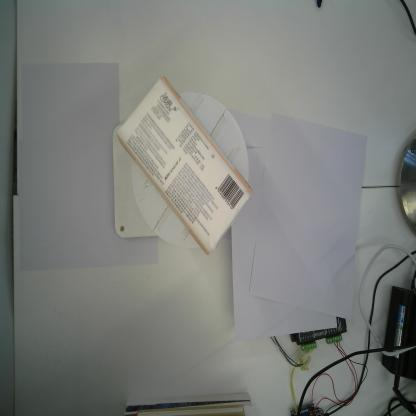Tissue: (115, 74, 254, 256)
